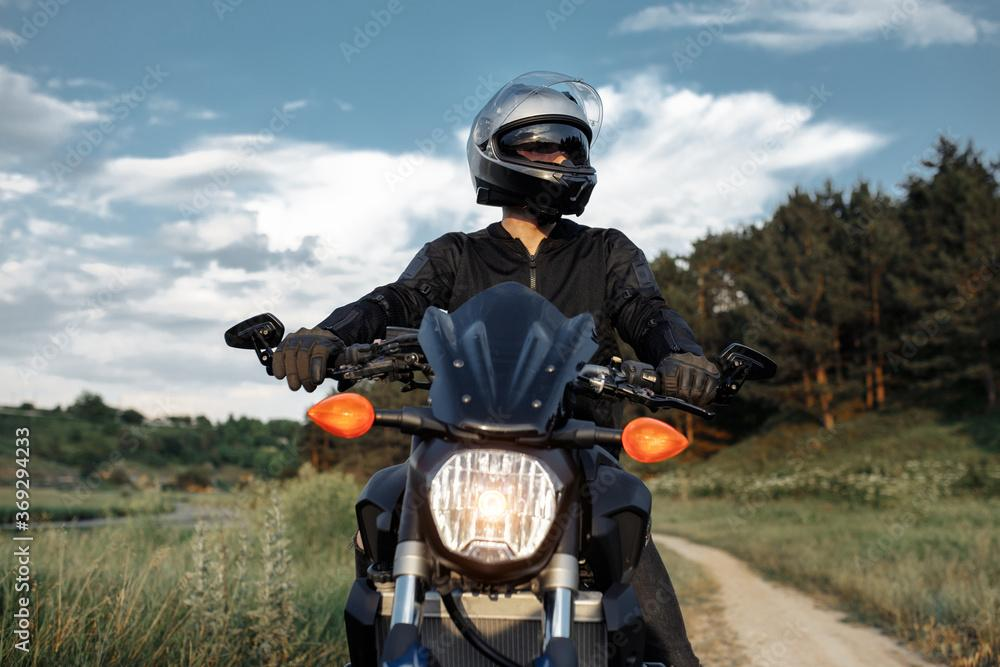helmet: (466, 69, 604, 228)
